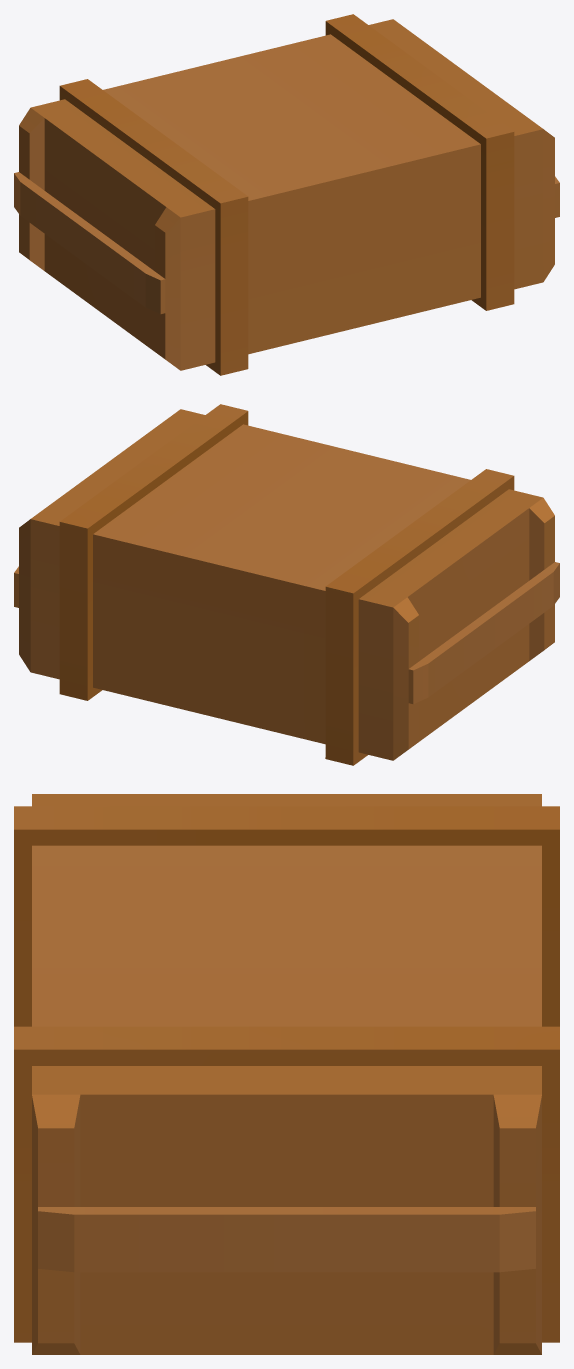
Rendered from yashik.fbx.
The picture shows the model from 3 angles, top to bottom: view 1: azimuth 30°, elevation 25°; view 2: azimuth 150°, elevation 25°; view 3: azimuth 270°, elevation 25°; orthographic projection. The views are drawn at different scales.
Visible parts, largest first — view 1: Box010; view 2: Box010; view 3: Box010.
Part boxes in pixels (bbox=[...]): Box010: bbox=[14, 14, 559, 375]; Box010: bbox=[14, 404, 559, 765]; Box010: bbox=[14, 794, 559, 1354].
Size of the model in its own units: 50.45 by 20.38 by 34.45.
